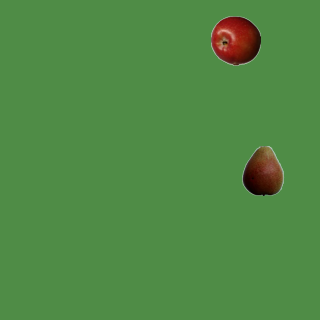Apple Braeburn: (210, 15, 260, 65)
Pear Forelle: (237, 145, 287, 195)
